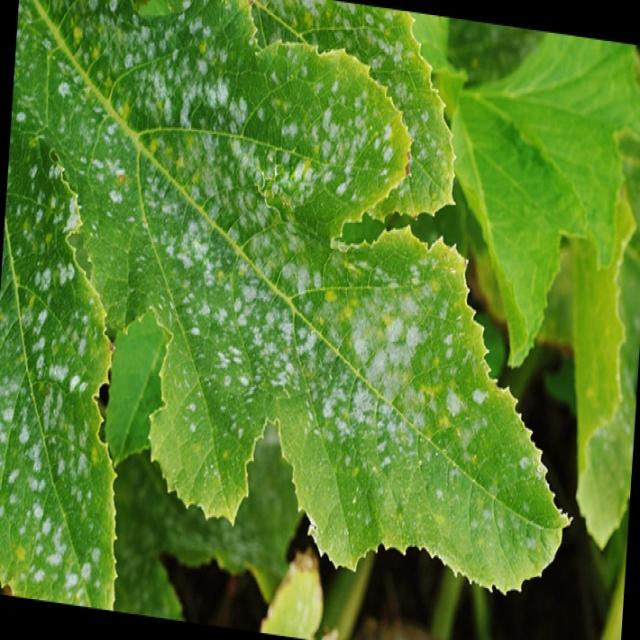Powdery Mildew: (2, 0, 576, 618)
